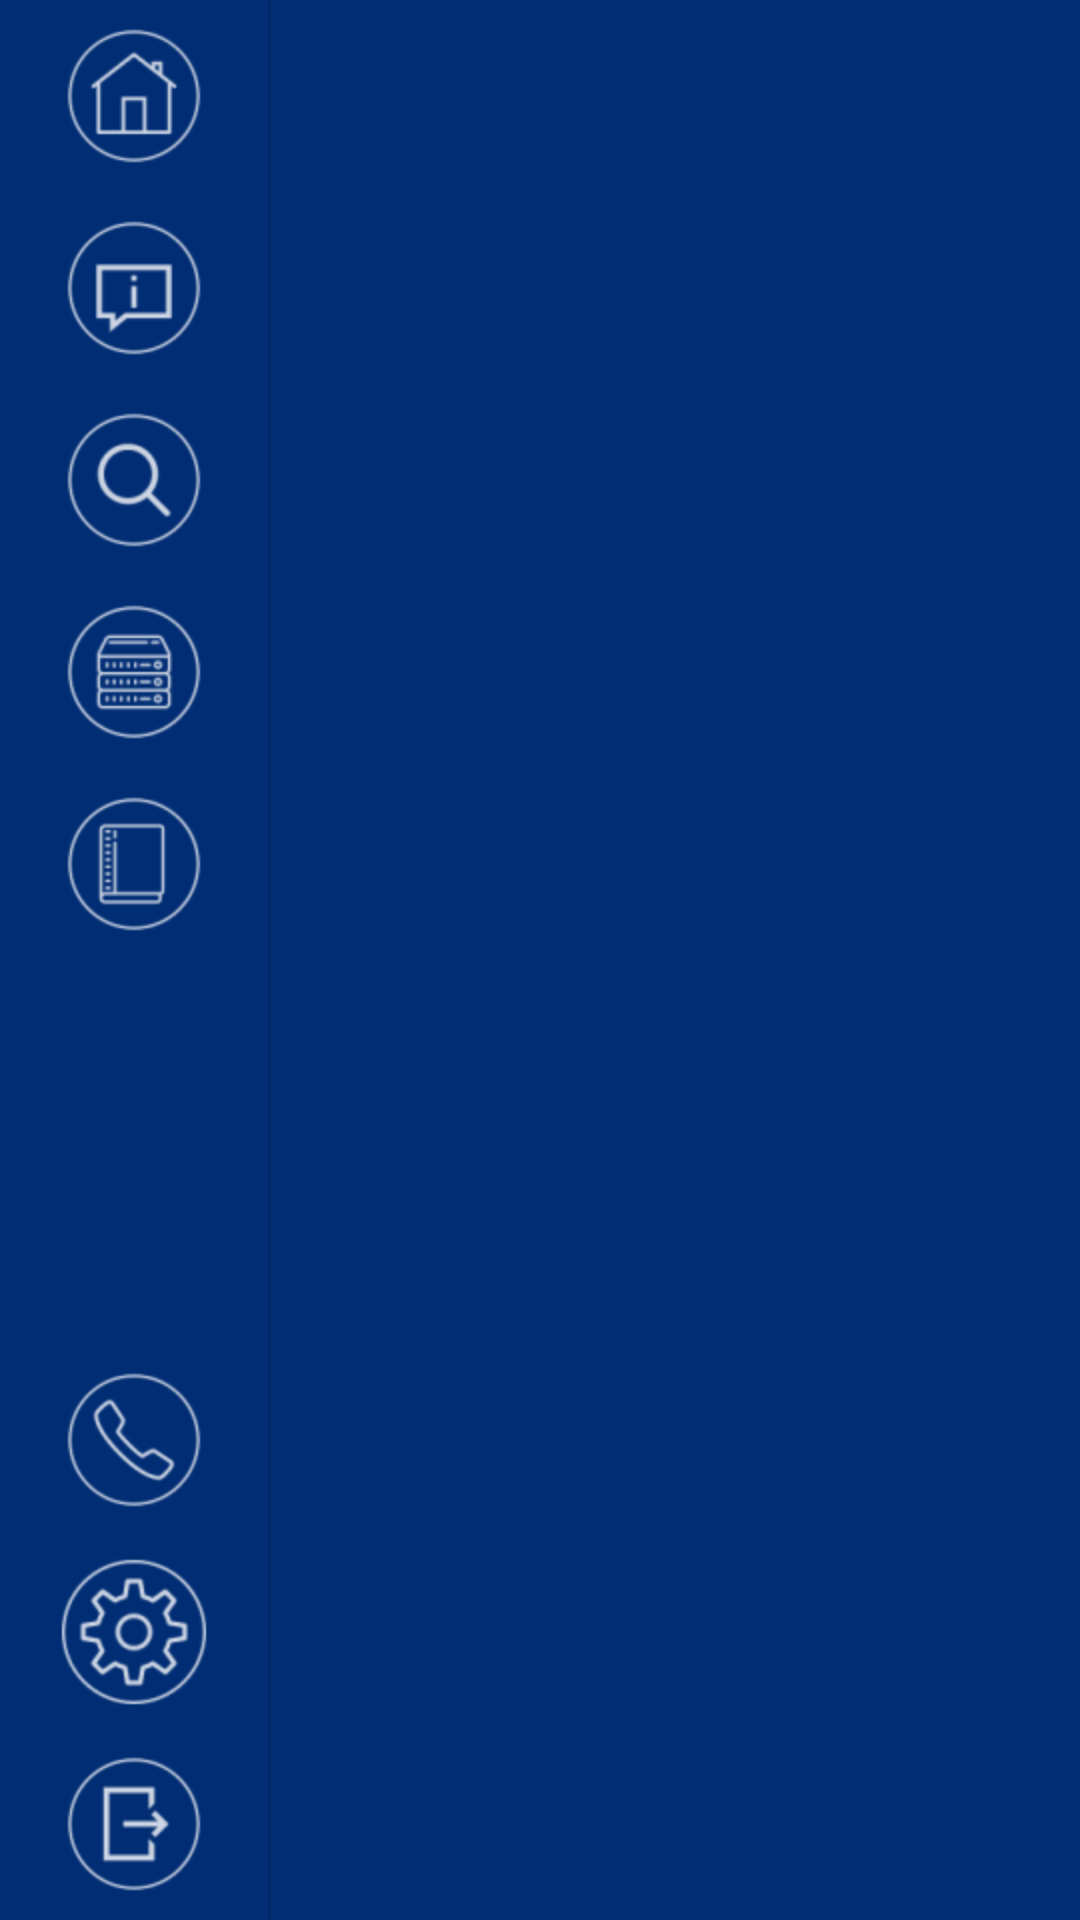

Screen size 1080px×1920px. Icon name, then its center in pixels as (x,y):
config circle: (134,1632)
contact circle: (134,1440)
exit circle: (134,1824)
home circle: (134,96)
intro circle: (134,288)
legislation circle: (134,864)
search circle: (134,480)
